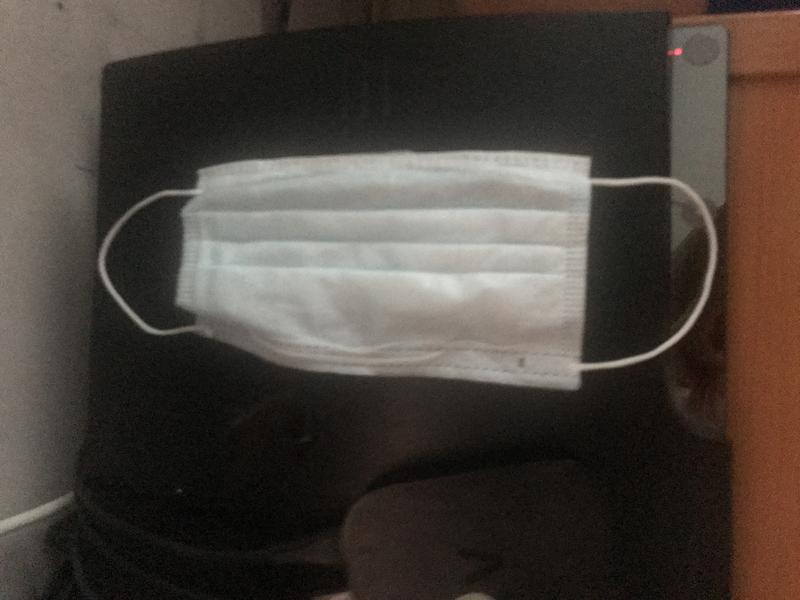medical_mask: (96, 148, 717, 392)
